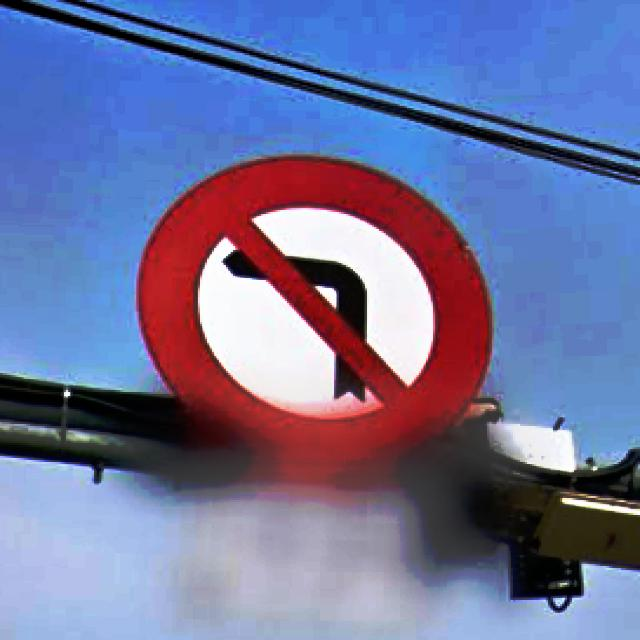noturnleft: (132, 150, 494, 468)
